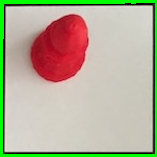Red Bishop: (28, 13, 92, 84)
